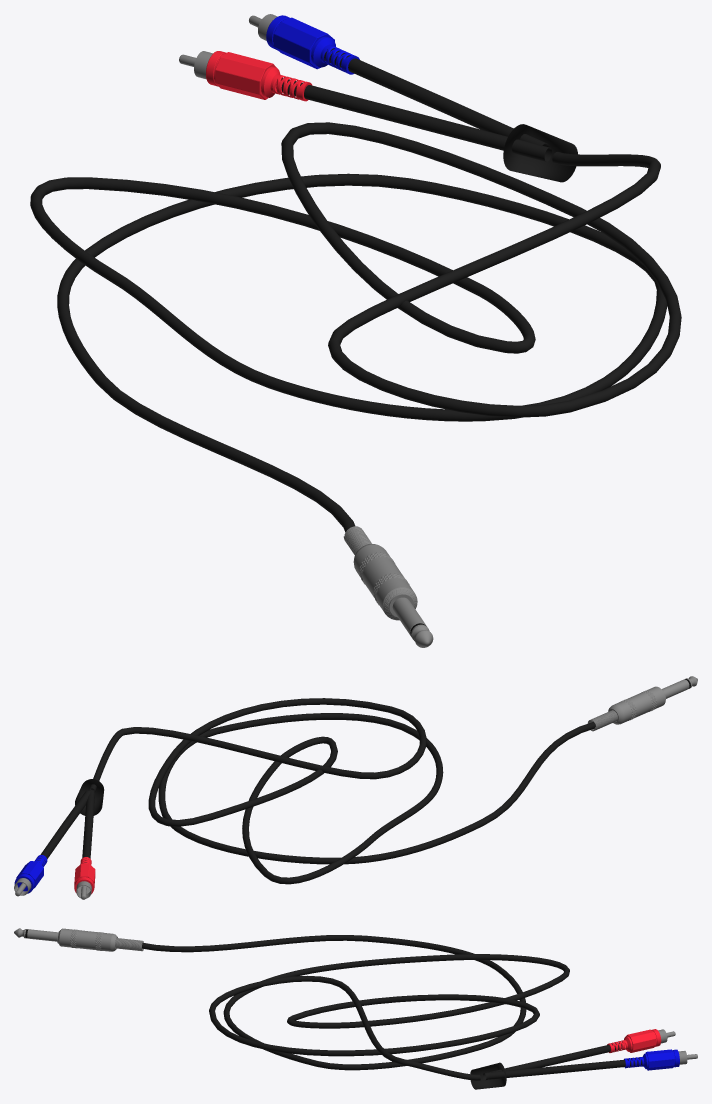
The model's file is Aux_cable.fbx.
3 views of the same model, one above another, from view 1: azimuth 30°, elevation 25°; view 2: azimuth 150°, elevation 25°; view 3: azimuth 270°, elevation 25° (orthographic). The views are drawn at different scales.
Parts seen in each view (by area): view 1: BezierCurve, RCA_cable.001, B_J_Base, B_J_connector; view 2: BezierCurve, RCA_cable.001, B_J_Base, B_J_connector; view 3: BezierCurve, RCA_cable.001, B_J_Base, B_J_connector, B_J_spring.001.
Boxes of the visible parts, x1,y1,x2,y2 form: BezierCurve: (30, 122, 681, 532); RCA_cable.001: (179, 14, 577, 182); B_J_Base: (353, 544, 417, 620); B_J_connector: (392, 597, 433, 647); BezierCurve: (89, 698, 595, 884); RCA_cable.001: (14, 779, 104, 899); B_J_Base: (608, 686, 665, 724); B_J_connector: (662, 676, 697, 698); BezierCurve: (142, 935, 569, 1080); RCA_cable.001: (470, 1029, 697, 1089); B_J_Base: (57, 928, 117, 951); B_J_connector: (14, 928, 58, 941); B_J_spring.001: (115, 938, 143, 951).
Bounding box in the file's own units: 24.36 × 2.65 × 45.81.
